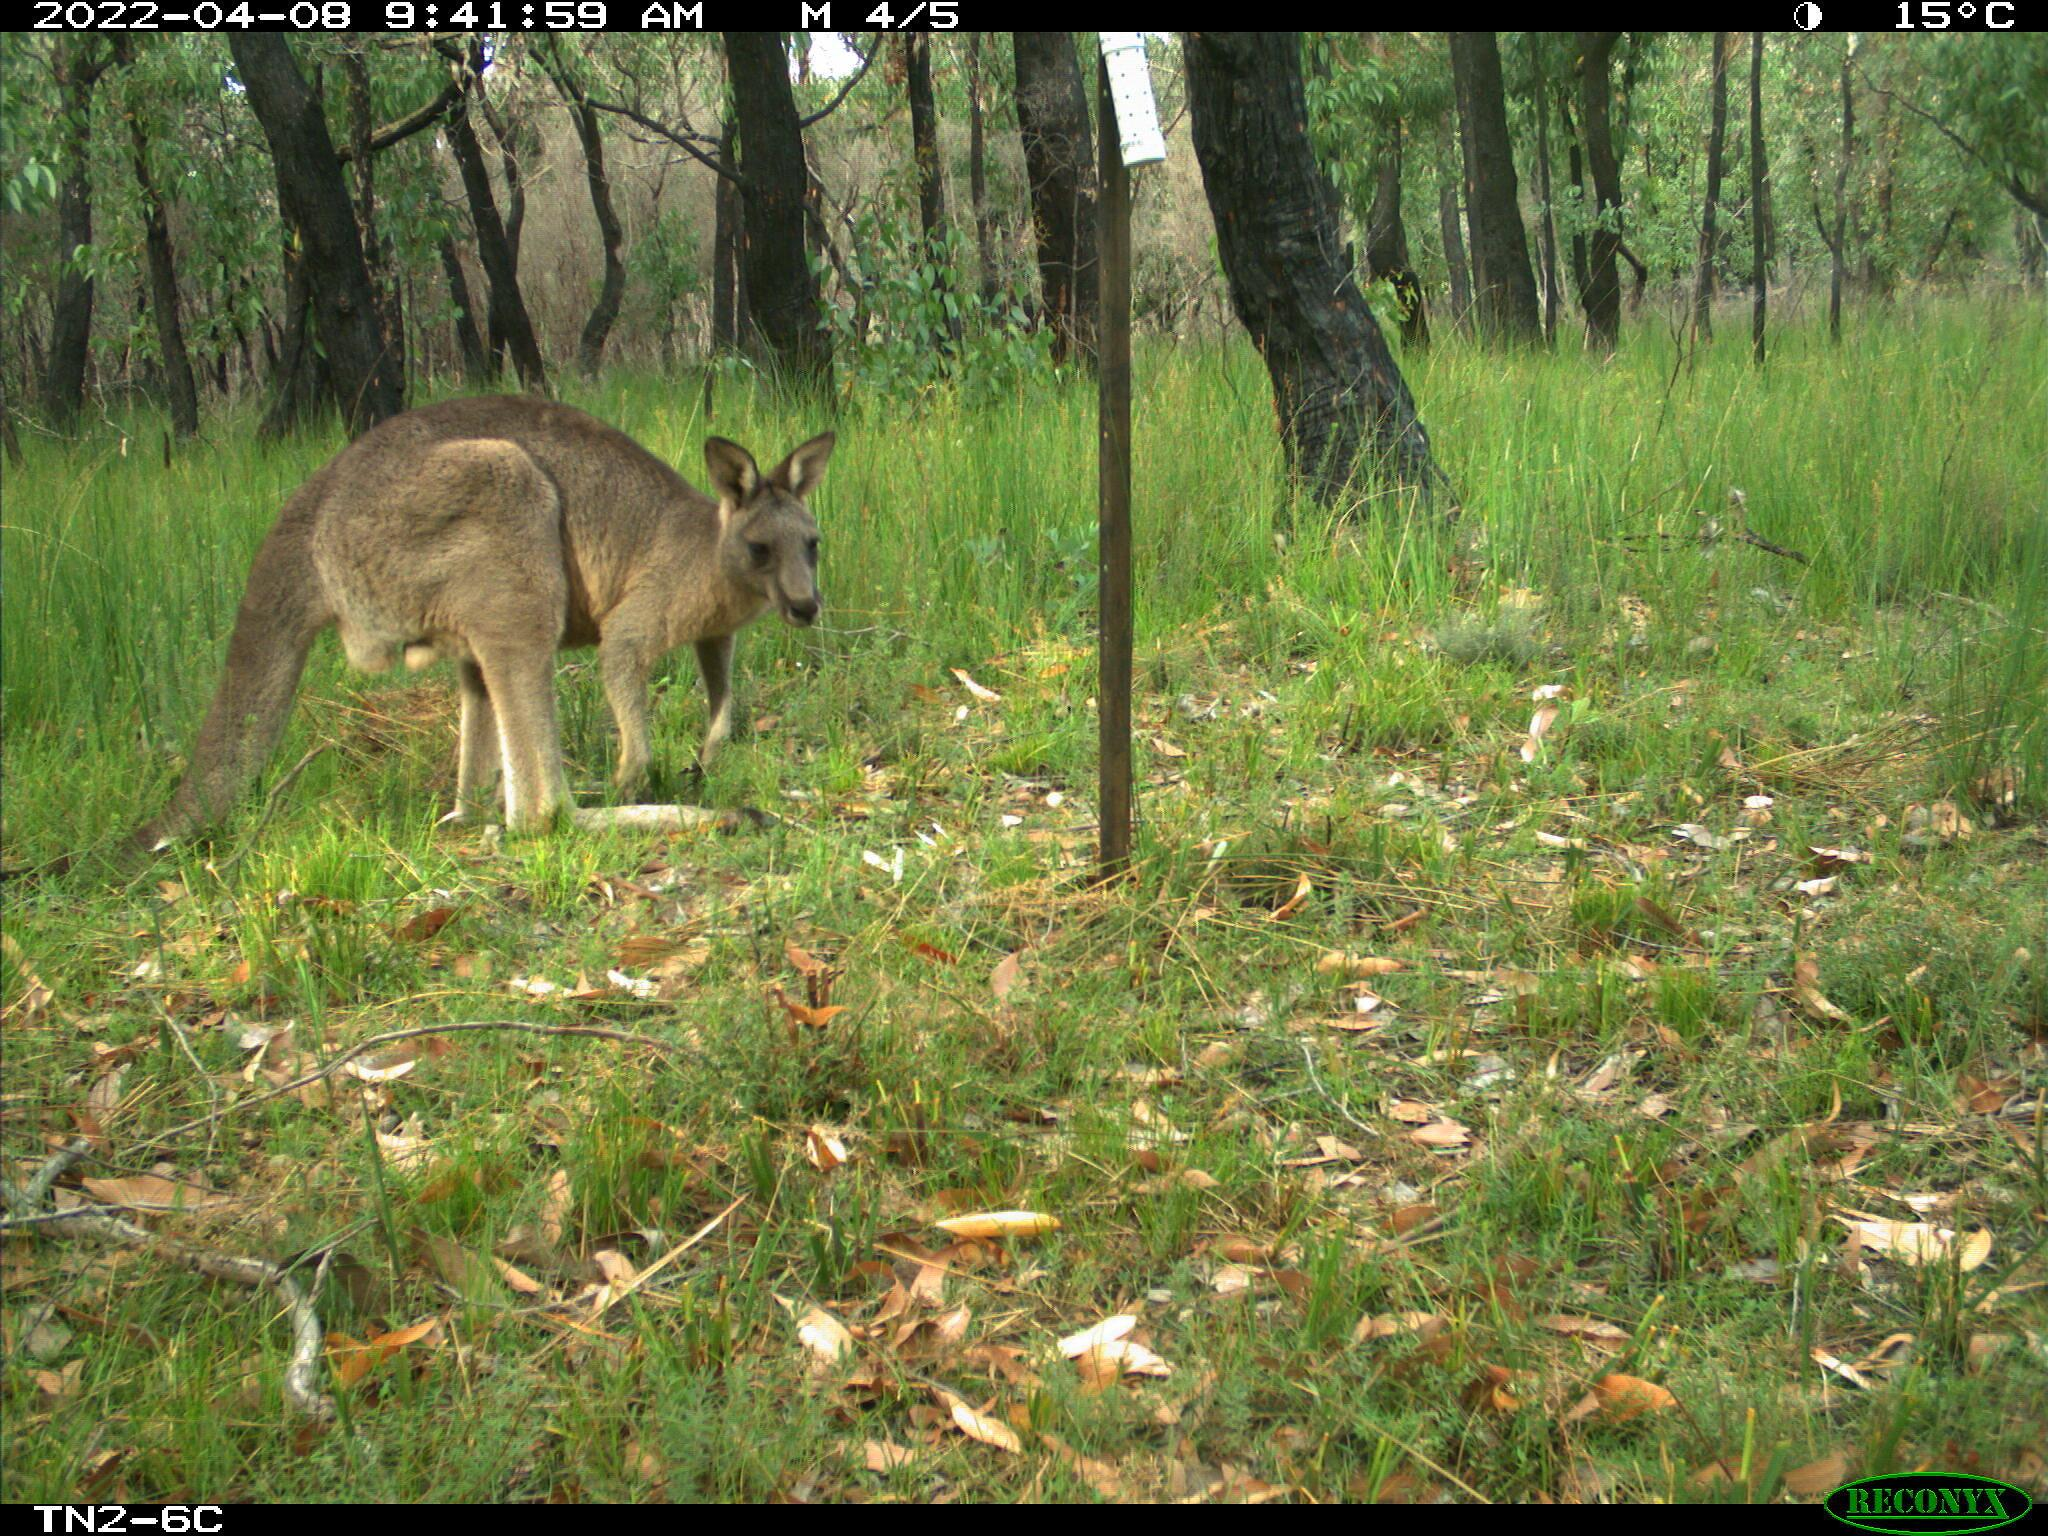Eastern grey kangaroo: (0, 399, 840, 894)
